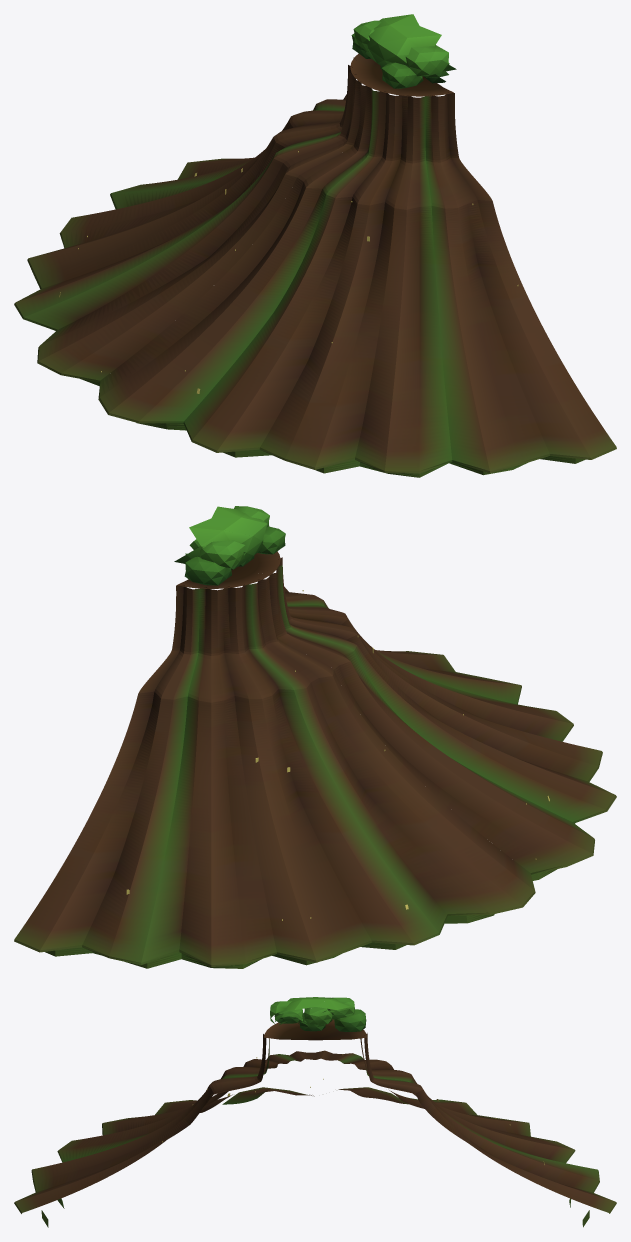
Rendered from swamp-s3-C5Vdy4_i.glb.
3 views of the same model, one above another, from view 1: azimuth 30°, elevation 25°; view 2: azimuth 150°, elevation 25°; view 3: azimuth 270°, elevation 25° (orthographic). The views are drawn at different scales.
Parts seen in each view (by area): view 1: sc_landmark_2, sc_landmark_1; view 2: sc_landmark_1, sc_landmark_2; view 3: sc_landmark_2, sc_landmark_1.
Part boxes in pixels (x1,y1,x2,y2): sc_landmark_2: [98, 25, 616, 477]; sc_landmark_1: [14, 14, 419, 385]; sc_landmark_1: [14, 518, 535, 968]; sc_landmark_2: [211, 506, 616, 880]; sc_landmark_2: [14, 997, 328, 1227]; sc_landmark_1: [311, 997, 616, 1227].
Bounding box in the file's own units: 420 × 330 × 817.
